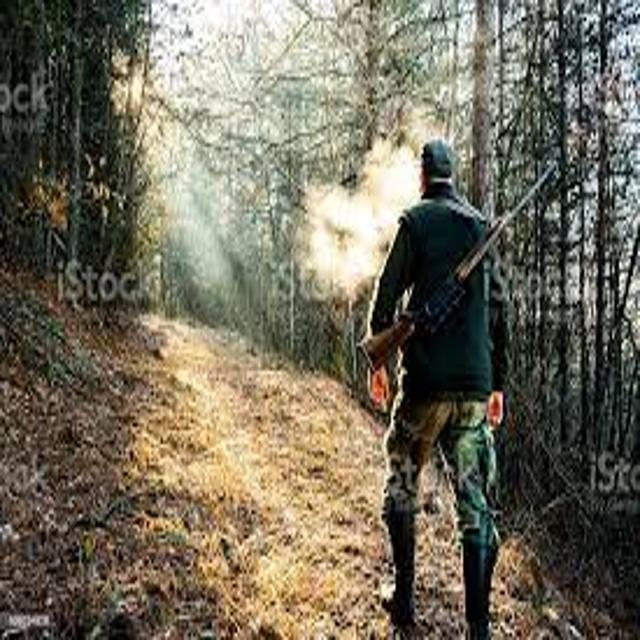gun: (340, 138, 580, 409)
poacher: (333, 125, 548, 638)
